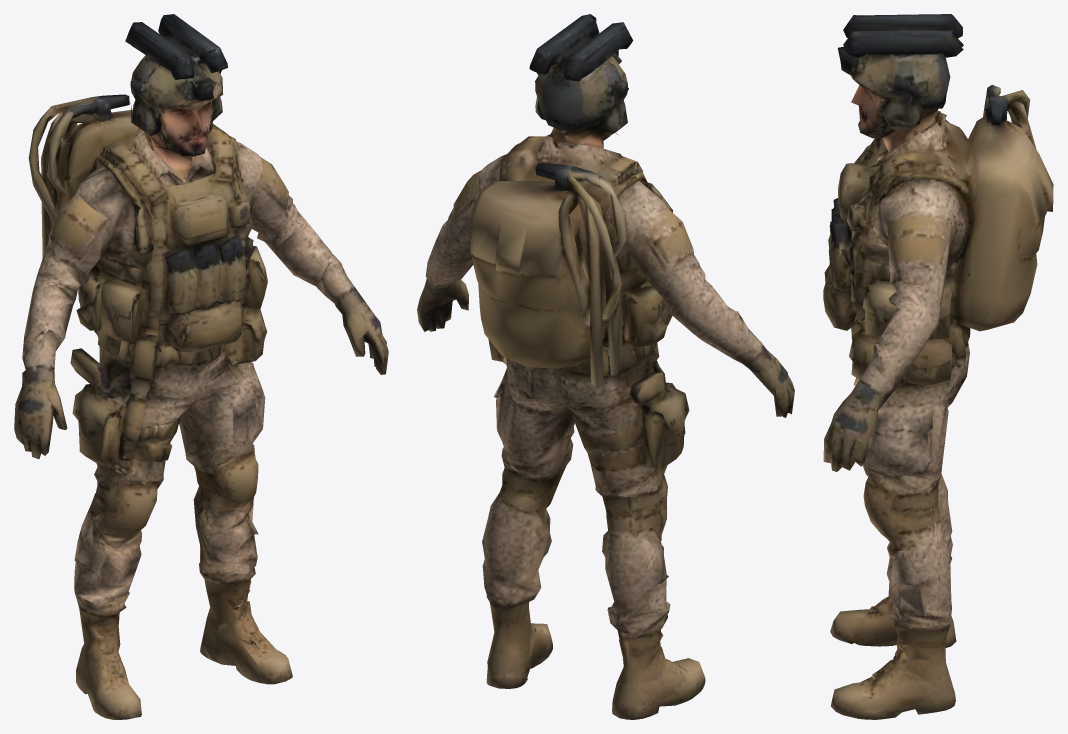
File: soldier_iq_3.glb
3 views of the same model, side by side, from view 1: azimuth 30°, elevation 25°; view 2: azimuth 150°, elevation 25°; view 3: azimuth 270°, elevation 25° (orthographic).
Visible parts, largest first — view 1: geometry_0; view 2: geometry_0; view 3: geometry_0.
Boxes of the visible parts, x1,y1,x2,y2 form: geometry_0: [14, 14, 388, 719]; geometry_0: [417, 14, 794, 719]; geometry_0: [823, 14, 1053, 719].
Bounding box in the file's own units: 0.6715 × 1.13 × 0.3595.
1 material, 1 textured.
